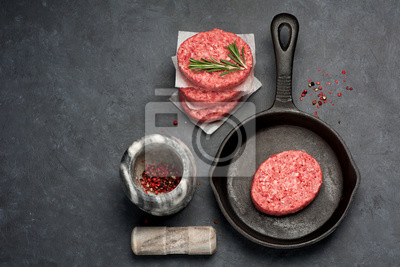ground_beef: (175, 26, 246, 129), (246, 142, 318, 222)
